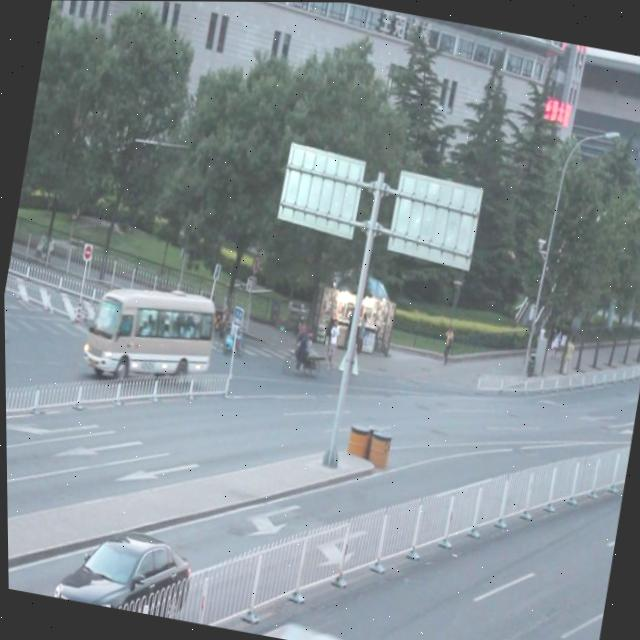car: (48, 514, 194, 620), (105, 280, 181, 344)
truck: (79, 279, 220, 391)
van: (193, 594, 405, 640)
